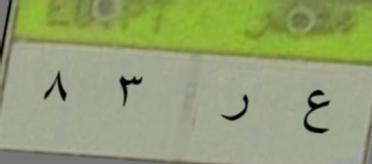3: (110, 71, 148, 110)
8: (42, 68, 68, 106)
ain: (295, 79, 334, 144)
raa: (215, 88, 255, 131)
